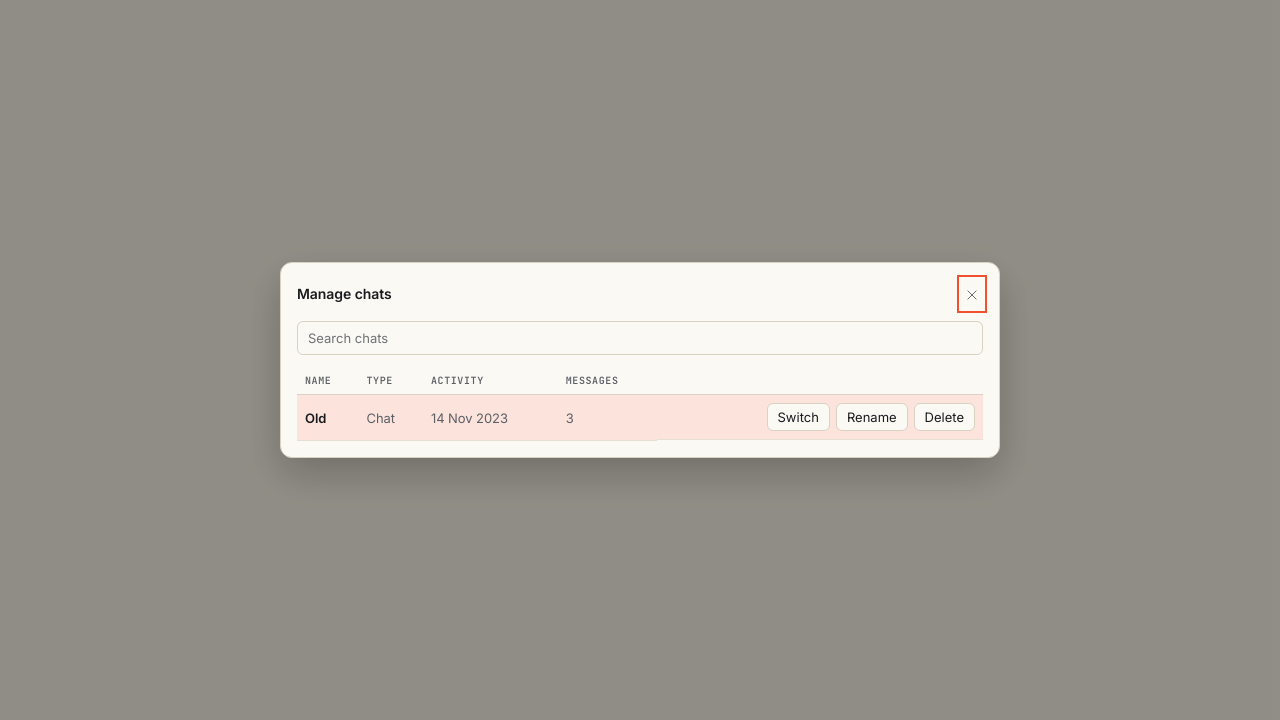
ManageChatsModal › asks before closing while a row is mid-rename
The image size is (1280, 720).
Step 1. Click the button with test id "manage-edit-c1" → (872, 417), box [836, 403, 908, 431]
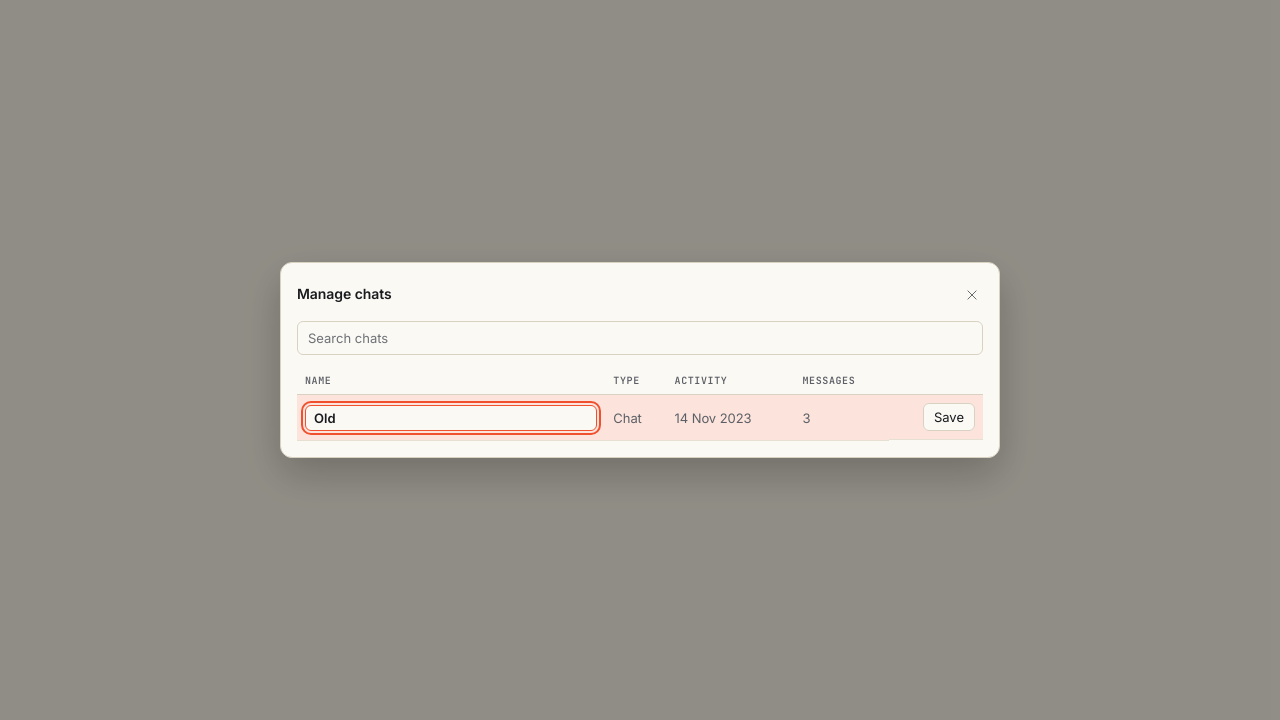
Step 2. Click the button with test id "manage-chats-close" → (972, 294), box [961, 279, 983, 309]
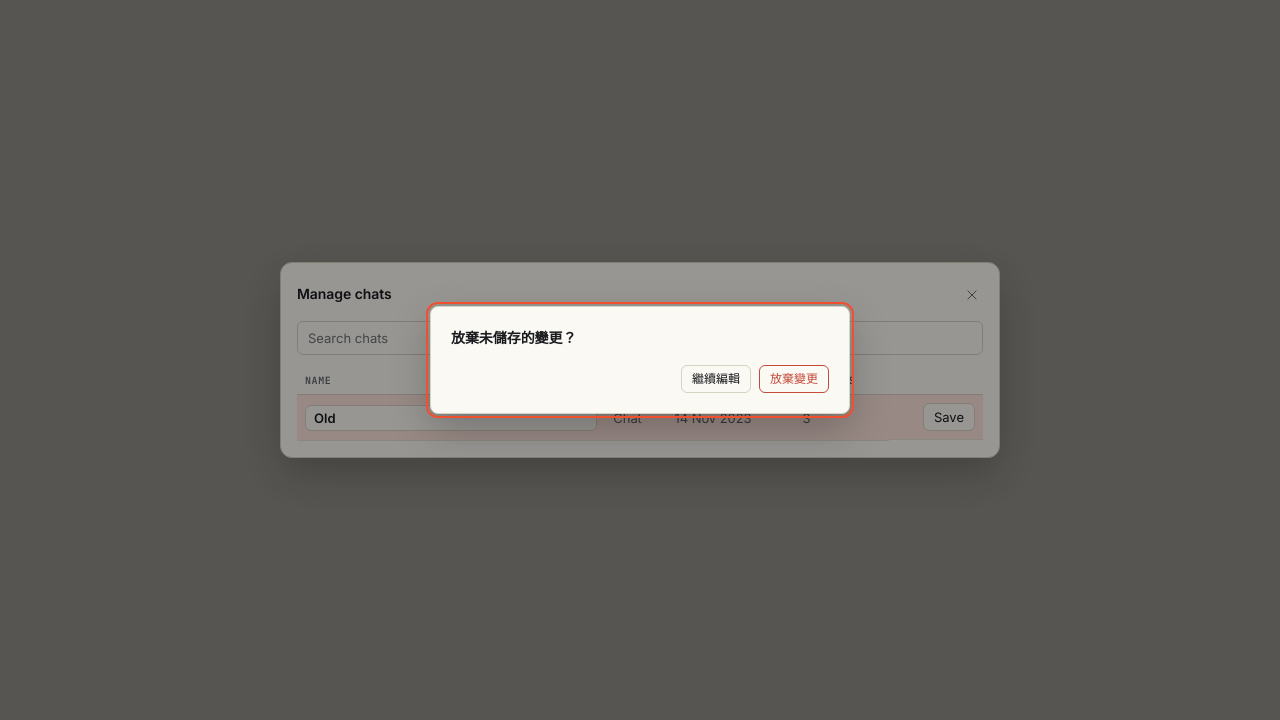
Now the button with test id "dialog-action-keep" is shown, box [681, 365, 751, 393]
